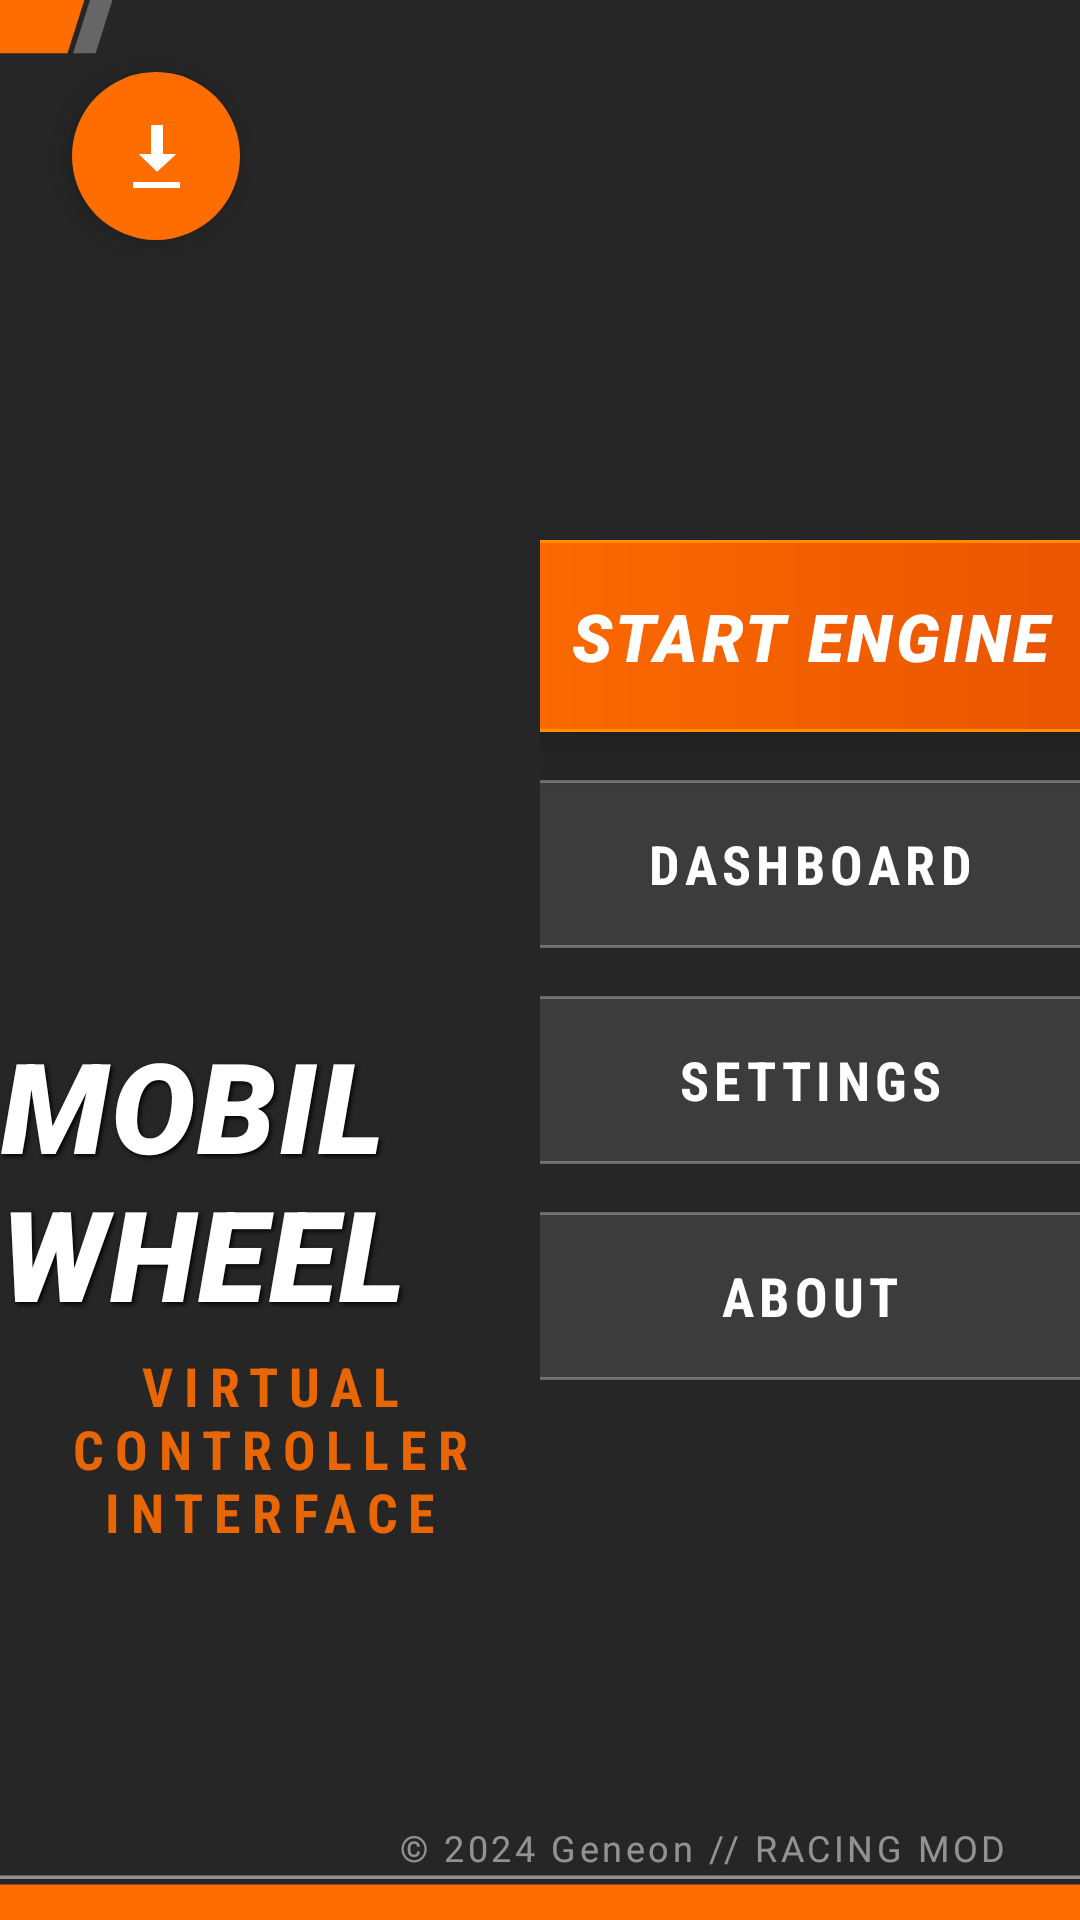

Named icons in this screenshot (1080x1920) and their bounding boxes, bbox(x1, y1, x2, y2):
Buscar Actualización: bbox(72, 72, 240, 240)
